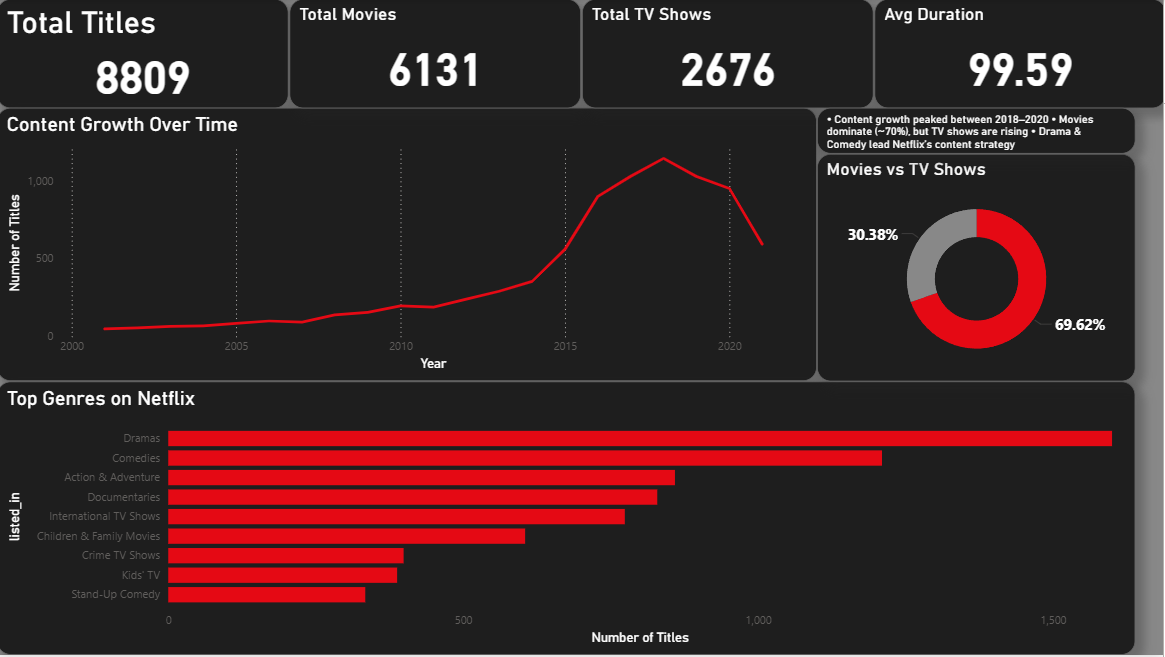

What the dashboard file says about the page in this screenshot:
{"tool":"powerbi","page":{"name":"Page 1","canvas":[1280,720],"ordinal":0},"visuals":[{"type":"card","title":"Total Titles","fields":{"Values":["netflix_titles.Total Titles"]},"box":[0,0,320,120],"z":0},{"type":"lineChart","title":"Content Growth Over Time","fields":{"Category":["netflix_titles.release_year"],"Y":["CountNonNull(netflix_titles.show_id)"]},"box":[0,119.4,900,300],"z":1000},{"type":"card","title":"Total Movies","fields":{"Values":["netflix_titles.Total Movies"]},"box":[320.9,0,320,120],"z":2000},{"type":"card","title":"Total TV Shows","fields":{"Values":["netflix_titles.Total TV Shows"]},"box":[642.4,0,320,120],"z":3000},{"type":"card","title":"Avg Duration","fields":{"Values":["netflix_titles.Avg Duration"]},"box":[963.9,0,320,120],"z":4000},{"type":"clusteredBarChart","title":"Top Genres on Netflix","fields":{"Category":["netflix_titles.listed_in"],"Y":["CountNonNull(netflix_titles.show_id)"]},"box":[0,419.8,1249.9,300],"z":5000},{"type":"donutChart","title":"Movies vs TV Shows","fields":{"Category":["netflix_titles.type"],"Y":["CountNonNull(netflix_titles.show_id)"]},"box":[900.2,170.2,349.9,249.7],"z":6000},{"type":"textbox","title":"• Content growth peaked between 2018–2020         • Movies dominate (~70%), but TV shows are rising   • Drama & Comedy lead Netflix’s content strategy  ","box":[900.2,119.4,349.9,50.8],"z":7000}]}

Visuals, with their boxes in screenshot pixels (x1, y1, x2, y2), scaled from the page's 1280x720 canvas onto the 1165x657 screenshot:
"Total Titles" card: [0, 0, 291, 110]
"Content Growth Over Time" lineChart: [0, 109, 819, 383]
"Total Movies" card: [292, 0, 583, 110]
"Total TV Shows" card: [585, 0, 876, 110]
"Avg Duration" card: [877, 0, 1164, 110]
"Top Genres on Netflix" clusteredBarChart: [0, 383, 1138, 656]
"Movies vs TV Shows" donutChart: [819, 155, 1138, 383]
"• Content growth peaked between 2018–2020         • Movies dominate (~70%), but TV shows are rising   • Drama & Comedy lead Netflix’s content strategy  " textbox: [819, 109, 1138, 155]
